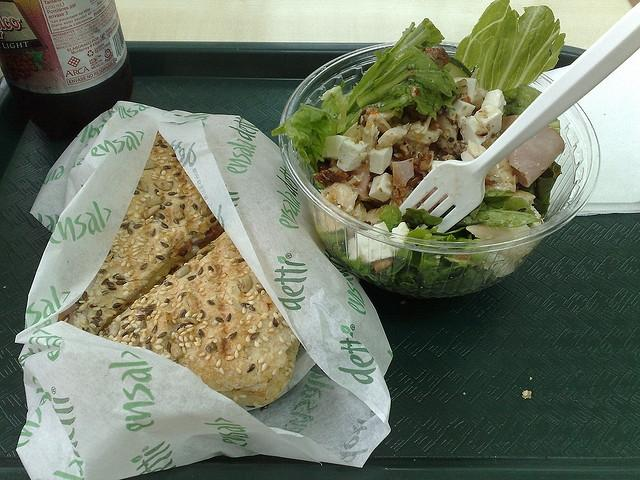lettuce: (338, 17, 462, 134), (454, 0, 566, 92), (270, 80, 352, 174), (454, 207, 542, 228), (466, 224, 531, 240), (402, 208, 442, 230), (417, 252, 440, 286), (379, 205, 401, 232)
